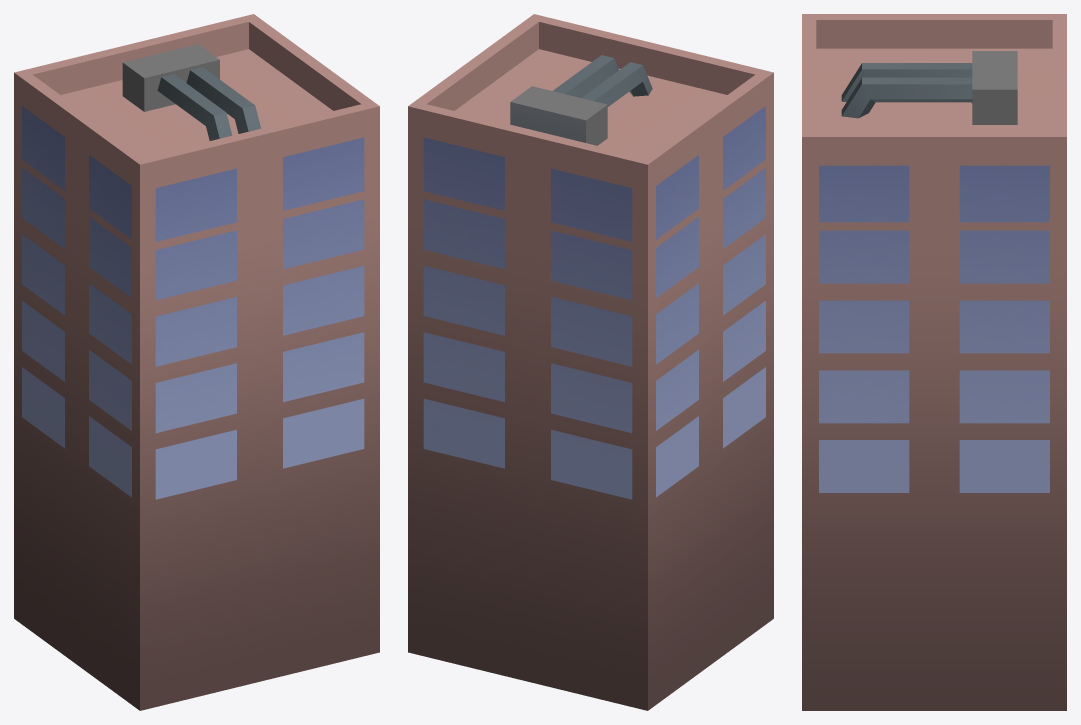
Rendered from Building_02.fbx.
3 renders of one model, left to right at view 1: azimuth 30°, elevation 25°; view 2: azimuth 150°, elevation 25°; view 3: azimuth 270°, elevation 25°, orthographic. The views are drawn at different scales.
Parts seen in each view (by area): view 1: Box034; view 2: Box034; view 3: Box034.
Boxes of the visible parts, x1,y1,x2,y2 form: Box034: (14, 14, 379, 710); Box034: (408, 14, 773, 710); Box034: (802, 14, 1066, 710).
Bounding box in the file's own units: 256 × 563 × 233.
